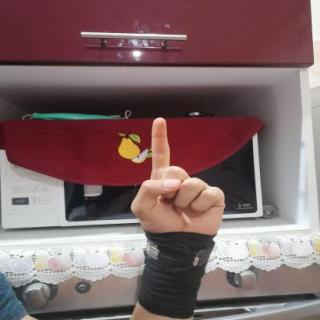BAA: (120, 110, 237, 249)
